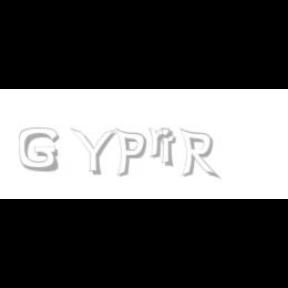G: (19, 128, 59, 172)
P: (115, 128, 147, 178)
R: (179, 128, 217, 180)
Y: (70, 128, 116, 176)
r: (148, 128, 176, 158)
t: (158, 128, 180, 168)
